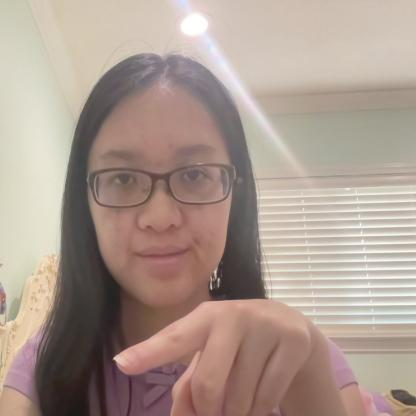finger_point: (107, 303, 206, 378)
